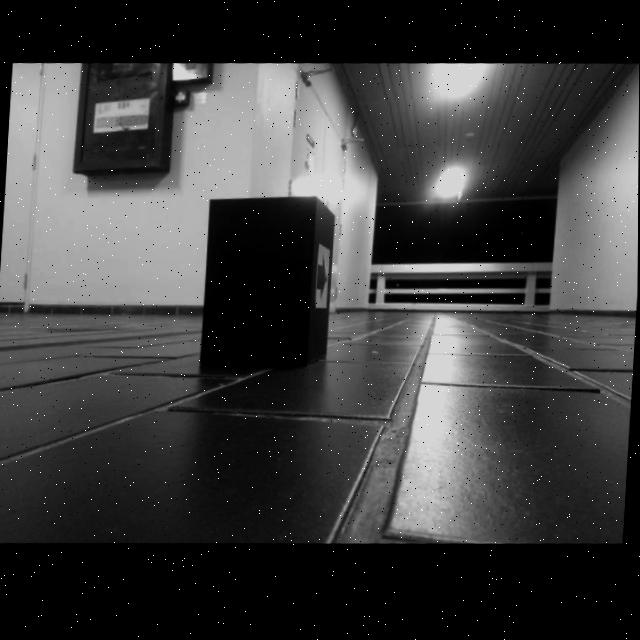RIGHT: (318, 259, 327, 302)
